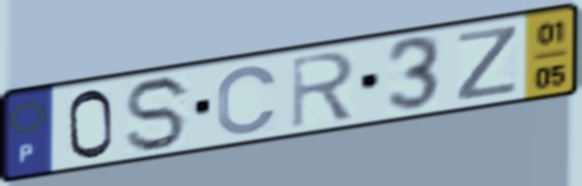0: (65, 86, 114, 161)
3: (384, 33, 444, 116)
C: (213, 62, 281, 137)
R: (288, 48, 358, 132)
S: (122, 73, 195, 155)
Z: (454, 22, 523, 105)
